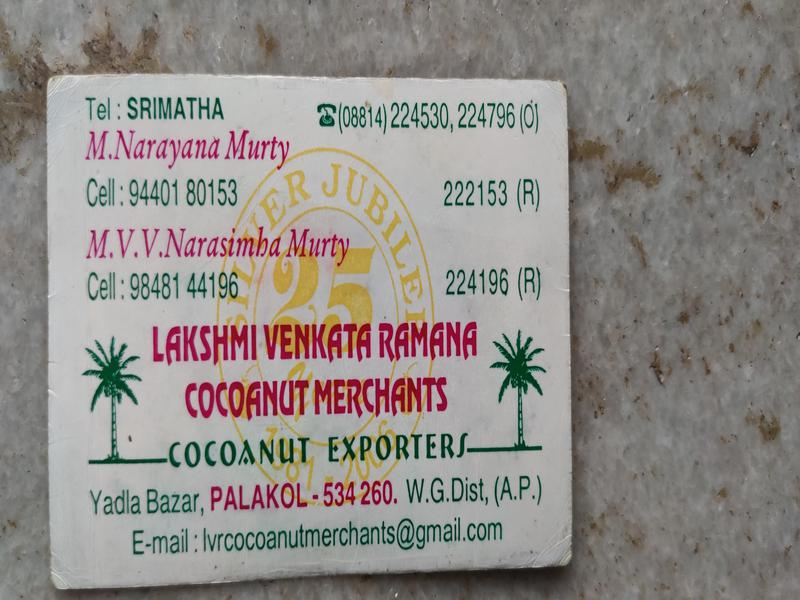card: (40, 72, 580, 594)
